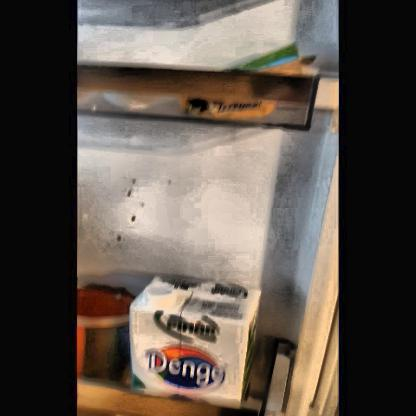milk: (127, 276, 262, 403)
